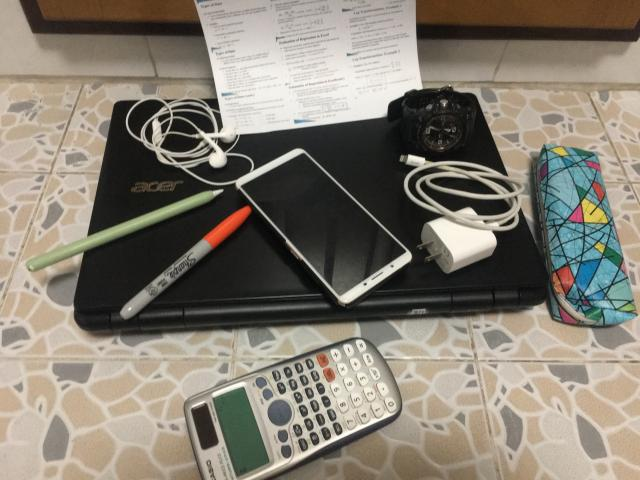Mobile phone: (236, 149, 411, 308)
Pen: (120, 206, 251, 319)
Watch: (388, 86, 476, 155)
paper: (195, 0, 421, 134)
wire: (400, 155, 524, 274), (125, 98, 254, 186)
